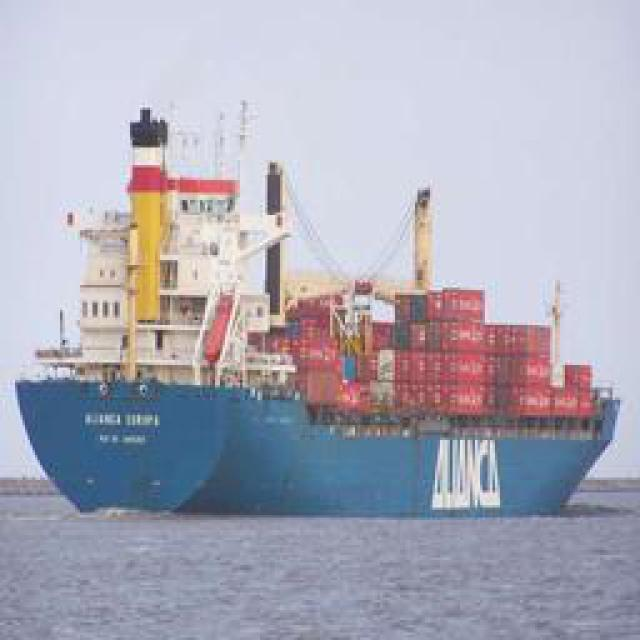Ship: (20, 105, 624, 525)
